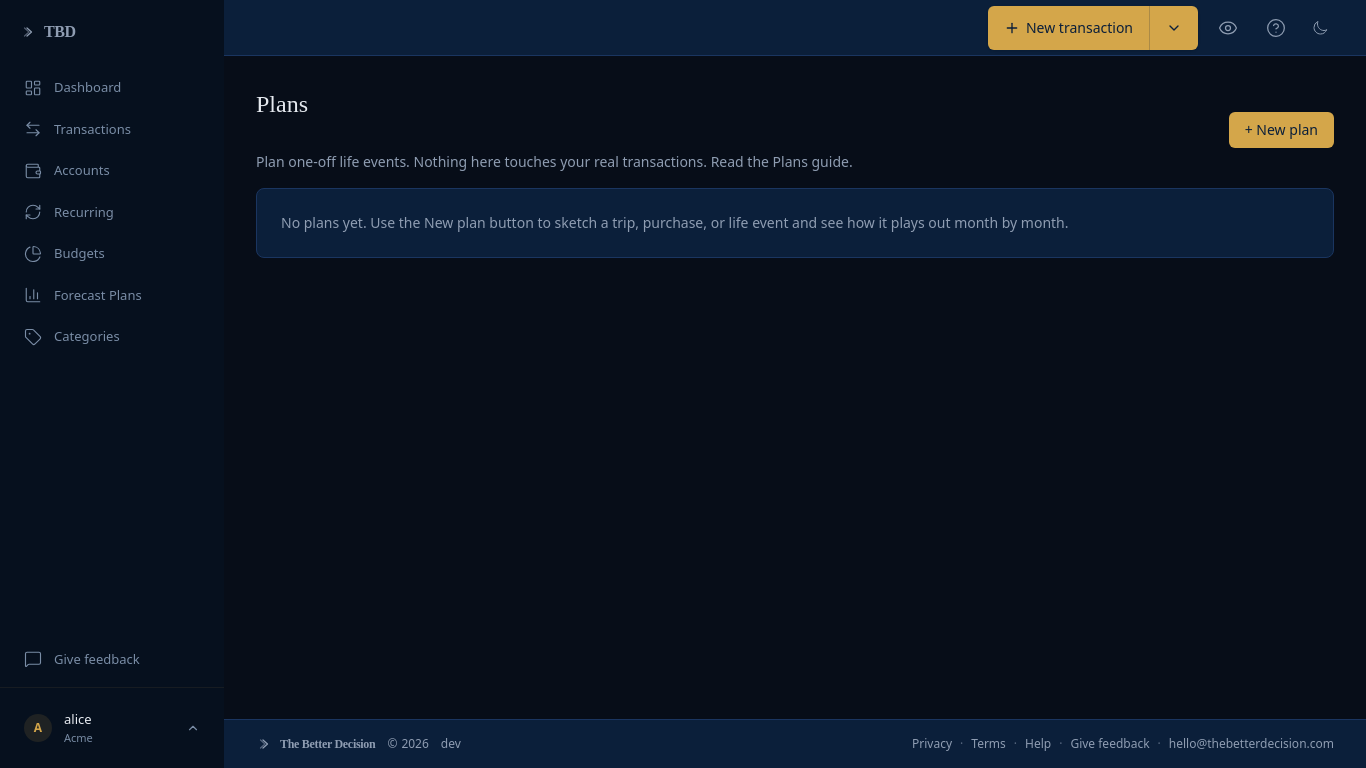
Test: /plans page › opens the New plan modal with the destination field for Trip template
Expected: the element with test id "plans-empty" is shown, [256,188,1334,258]
Click the button with test id "plans-new": x=1281, y=130 [1229,112,1334,148]
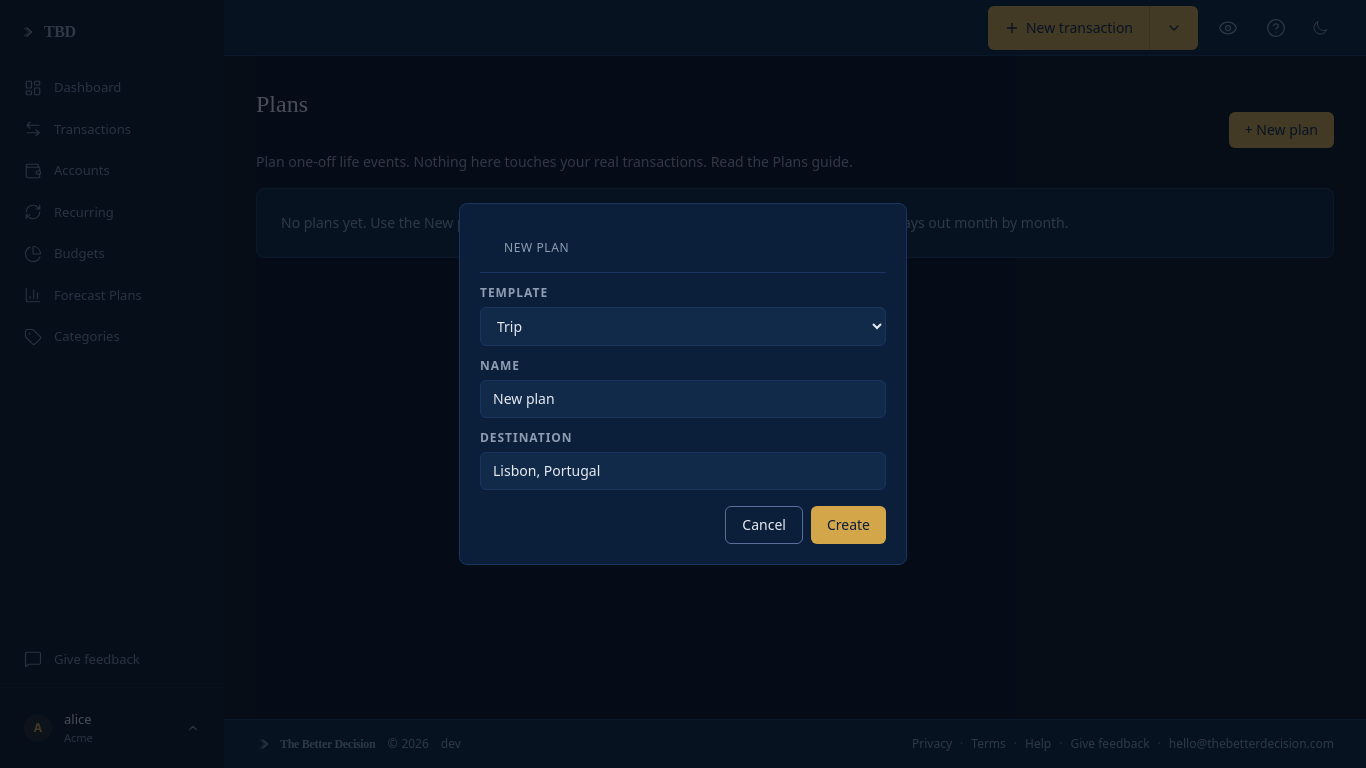
Result: the dialog with test id "new-plan-modal" is shown
Result: the field with test id "new-plan-destination" is shown at [480,452,886,490]
Result: the dropdown with test id "new-plan-template" shows "Trip" at [480,307,886,346]
